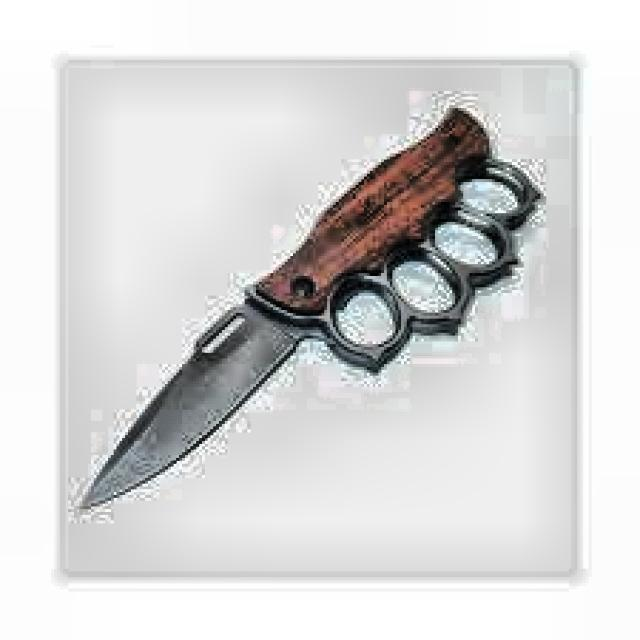knife: (81, 113, 542, 511)
